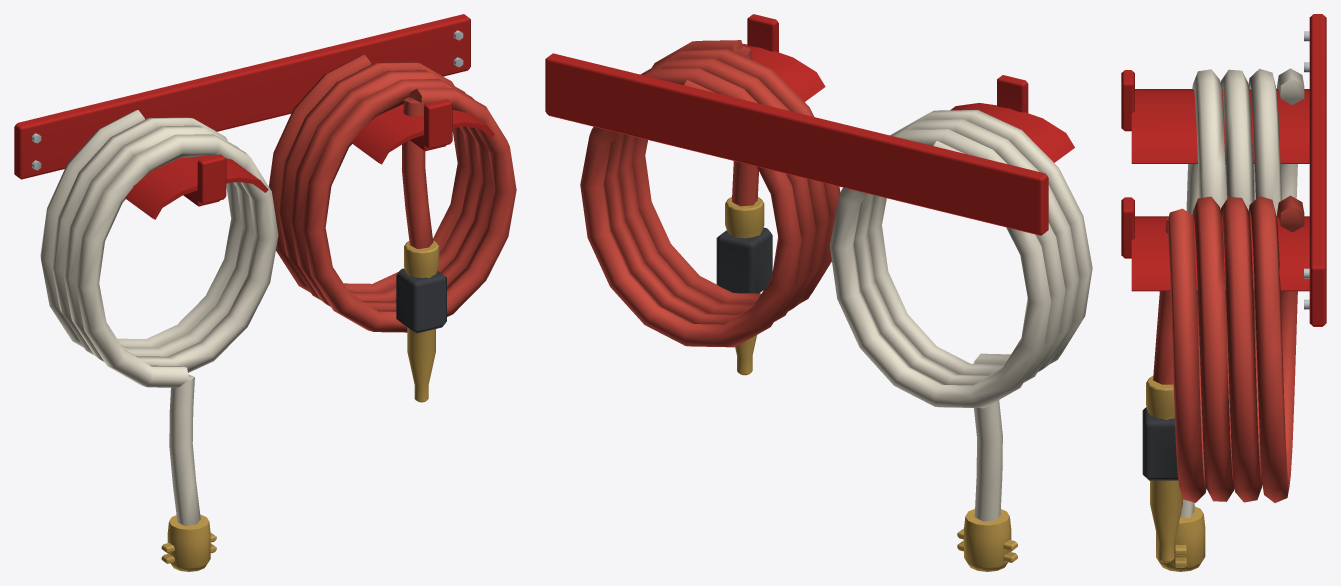
The model's file is hoseRack.glb.
The picture shows the model from 3 angles, left to right: view 1: azimuth 30°, elevation 25°; view 2: azimuth 150°, elevation 25°; view 3: azimuth 270°, elevation 25°; orthographic projection. The views are drawn at different scales.
Parts seen in each view (by area): view 1: hoseRack; view 2: hoseRack; view 3: hoseRack.
Part boxes in pixels (left/top/right/bottom): hoseRack: left=14, top=14, right=516, bottom=571; hoseRack: left=545, top=14, right=1092, bottom=571; hoseRack: left=1121, top=14, right=1326, bottom=571.
Size of the model in its own units: 0.88 by 0.786 by 0.3.
